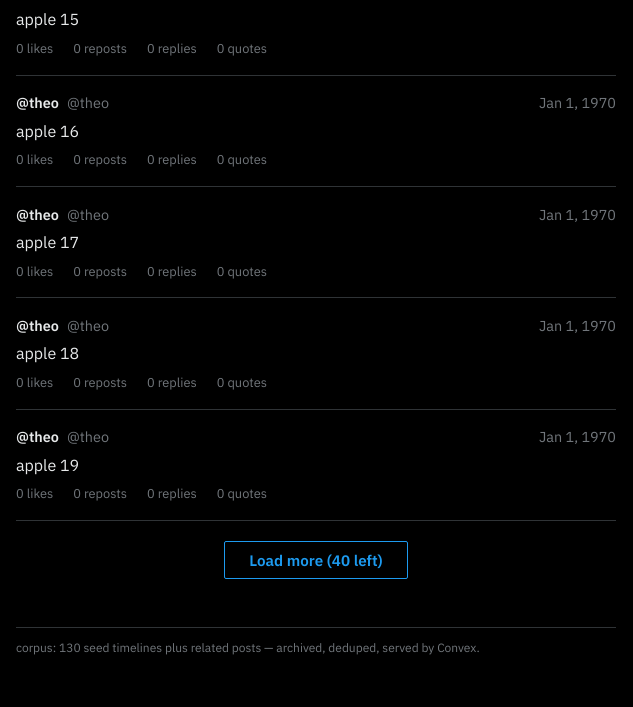
Scenario: paged results keep first-page metadata and drop chain duplicates
(page scrolled)
Click the button "Load more (40 left)" at (316, 560), box [224,541,408,579]
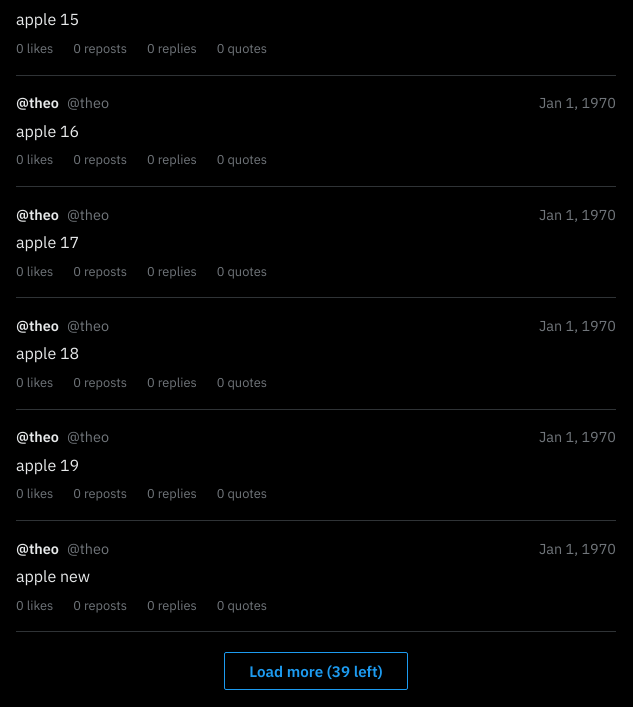
expect the text "apple new" is shown: met, box [16,566,90,586]
